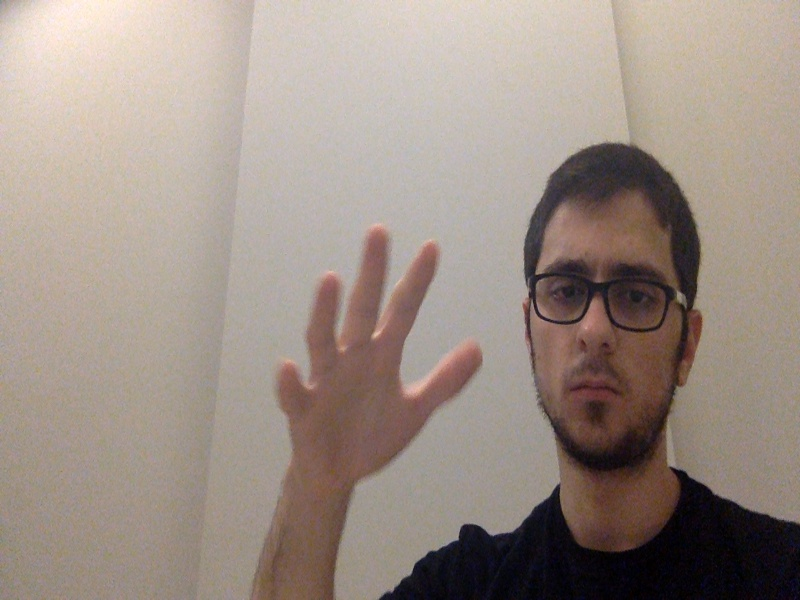5-hand: (273, 223, 488, 481)
